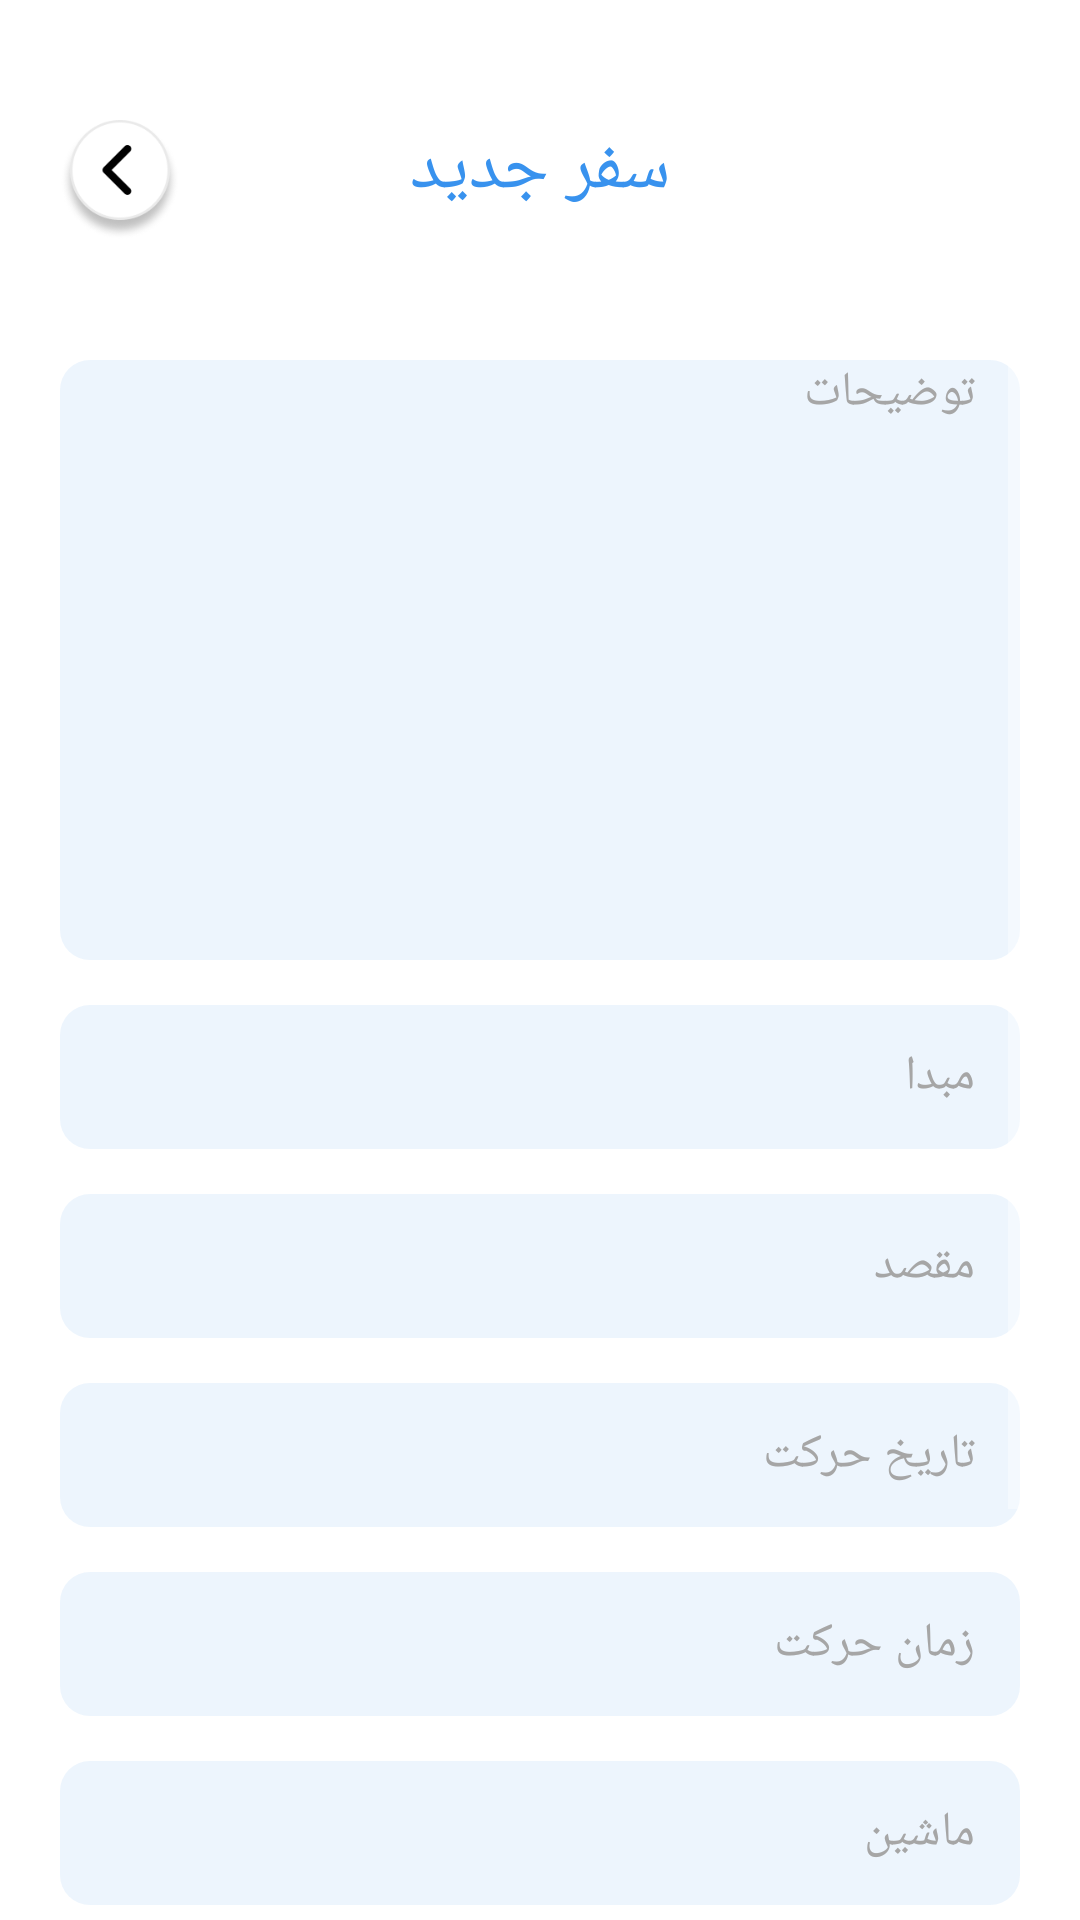

Where icons sit on this 1080px x 1920px app screen, as (x1, y1, x2, y2):
back: (69, 145, 171, 231)
